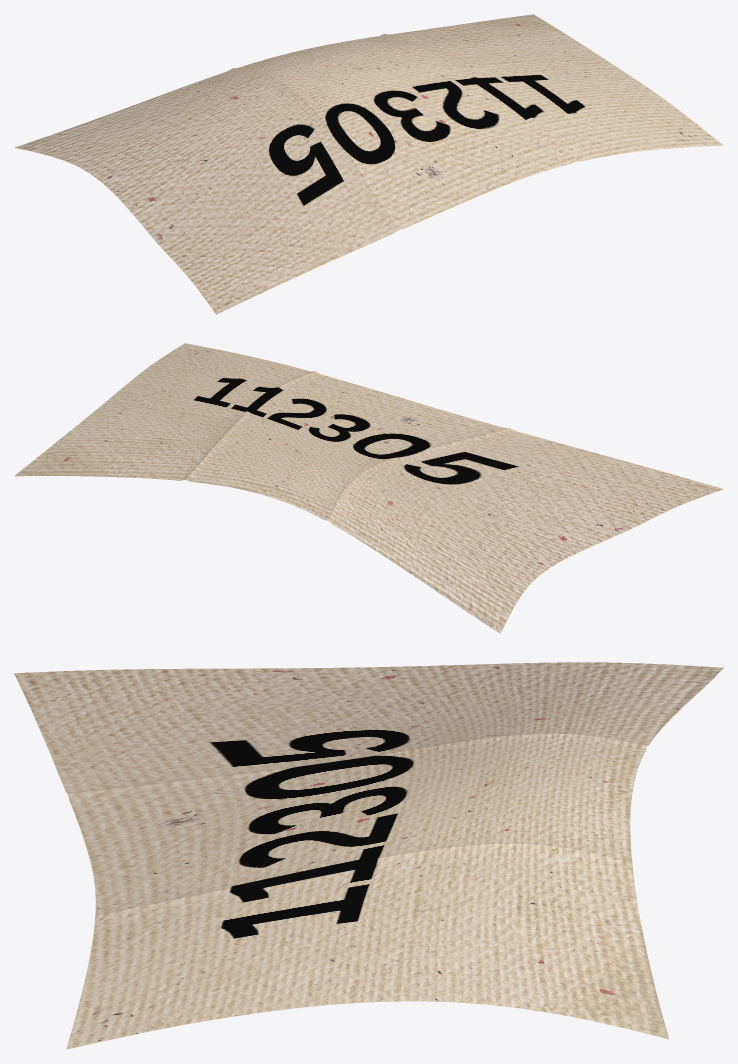
File: pageOne.glb
3 renders of one model, top to bottom at view 1: azimuth 30°, elevation 25°; view 2: azimuth 150°, elevation 25°; view 3: azimuth 270°, elevation 25°, orthographic. The views are drawn at different scales.
Visible parts, largest first — view 1: Object_2; view 2: Object_2; view 3: Object_2.
Part boxes in pixels (x1,y1,x2,y2): Object_2: [14, 14, 723, 314]; Object_2: [14, 343, 723, 633]; Object_2: [14, 662, 723, 1049].
Bounding box in the file's own units: 24.75 × 3.3 × 17.43.
Materials: 1 (1 with a texture image).
